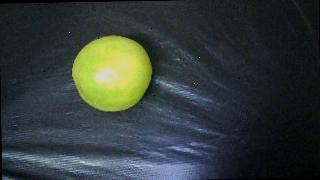LOCAL: (71, 35, 152, 112)
